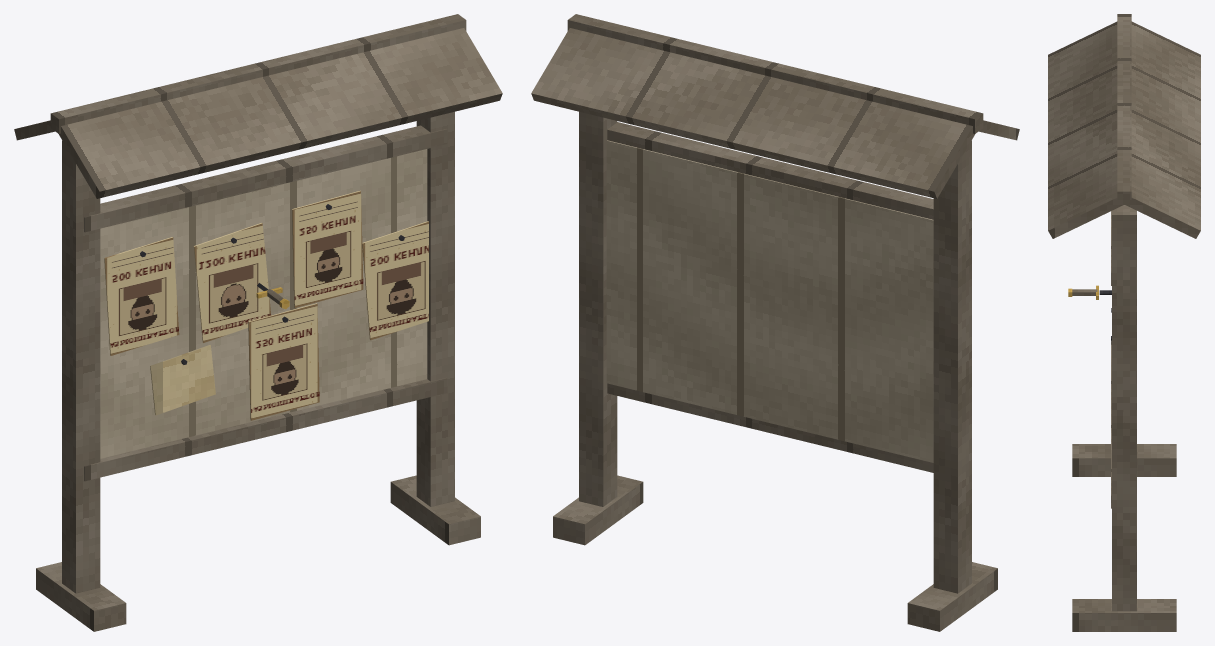
File: bounty_board.obj
The picture shows the model from 3 angles, left to right: view 1: azimuth 30°, elevation 25°; view 2: azimuth 150°, elevation 25°; view 3: azimuth 270°, elevation 25°; orthographic projection. The views are drawn at different scales.
Visible parts, largest first — view 1: bounty_board; view 2: bounty_board; view 3: bounty_board.
Part boxes in pixels (<box>): bounty_board: <box>14,14,502,631</box>; bounty_board: <box>531,14,1019,631</box>; bounty_board: <box>1048,14,1200,631</box>.
Bounding box in the file's own units: 2.02 × 2.36 × 0.7343.
